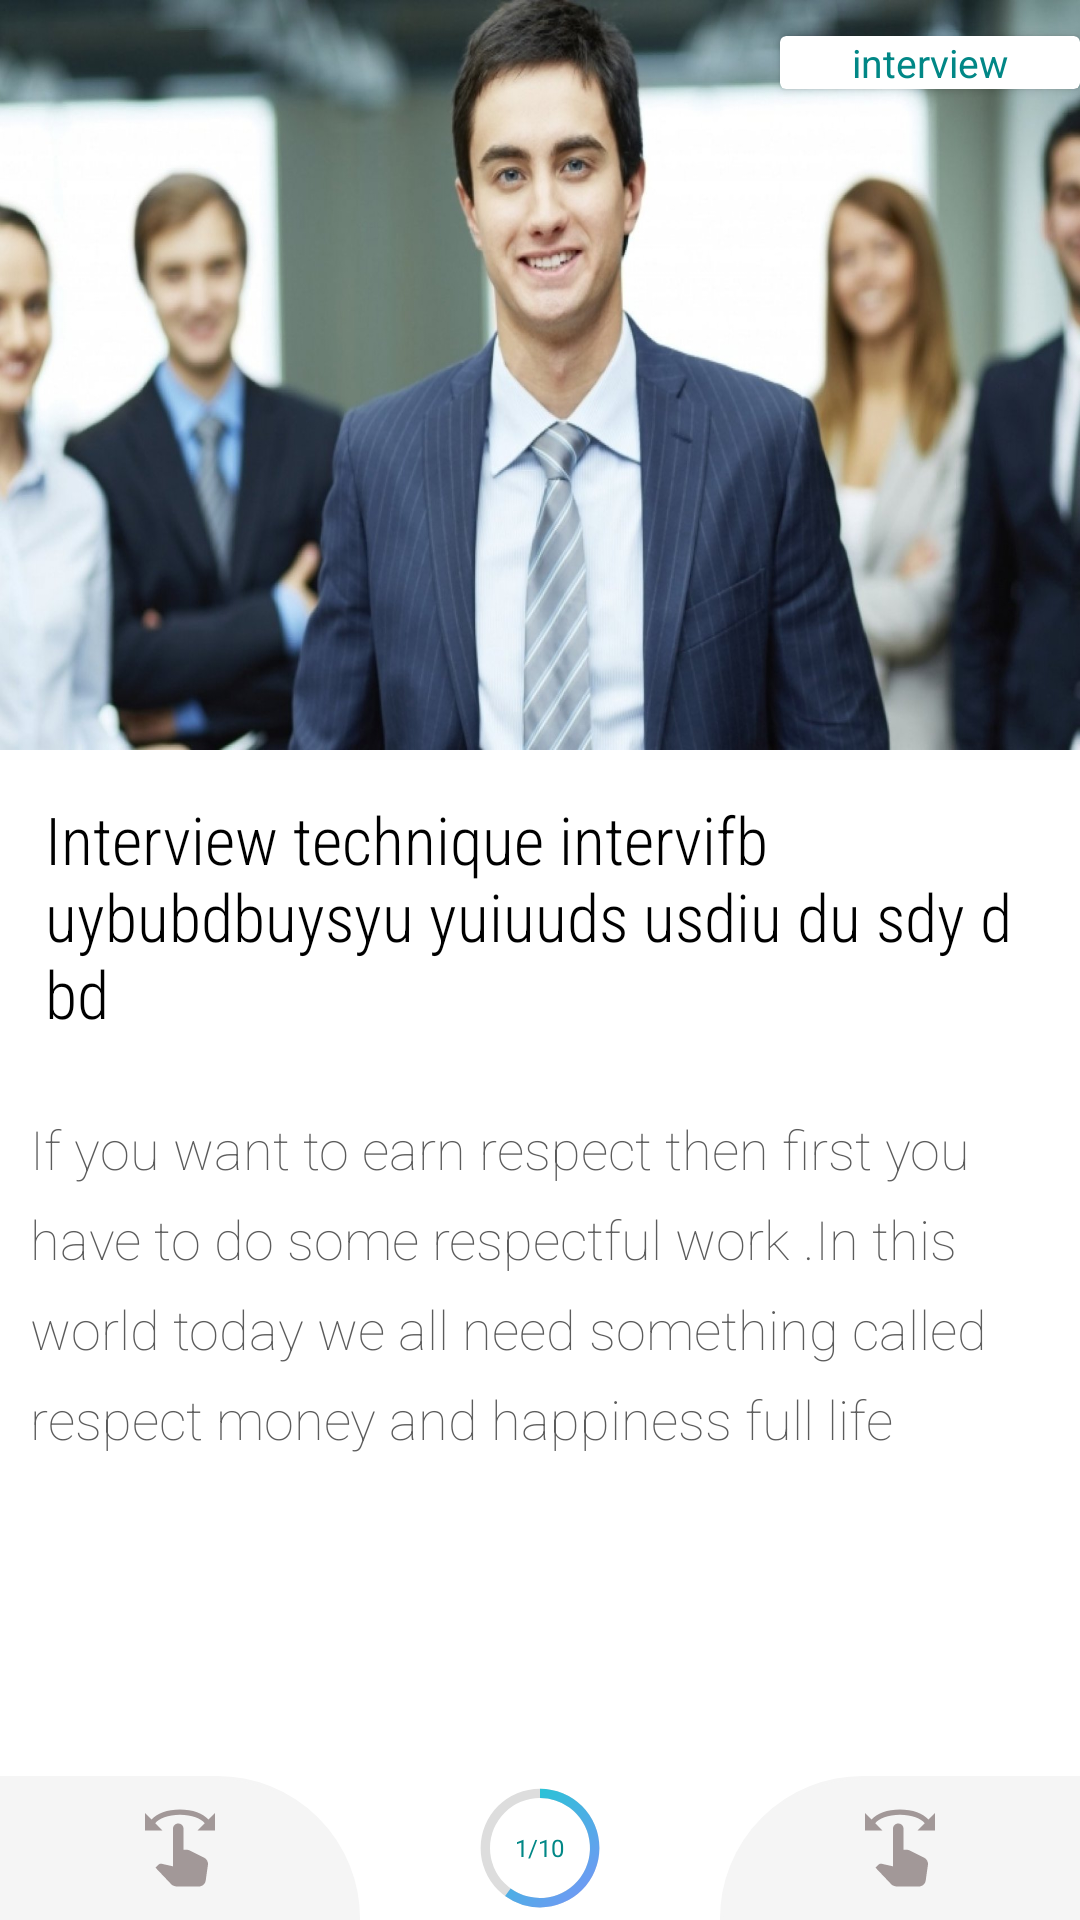

Locate icon controls on the screen. Image size 1080×1920, boxes as region(x1, y1, x2, y2).
swipe: region(0, 1776, 360, 1920), region(720, 1776, 1080, 1920)
